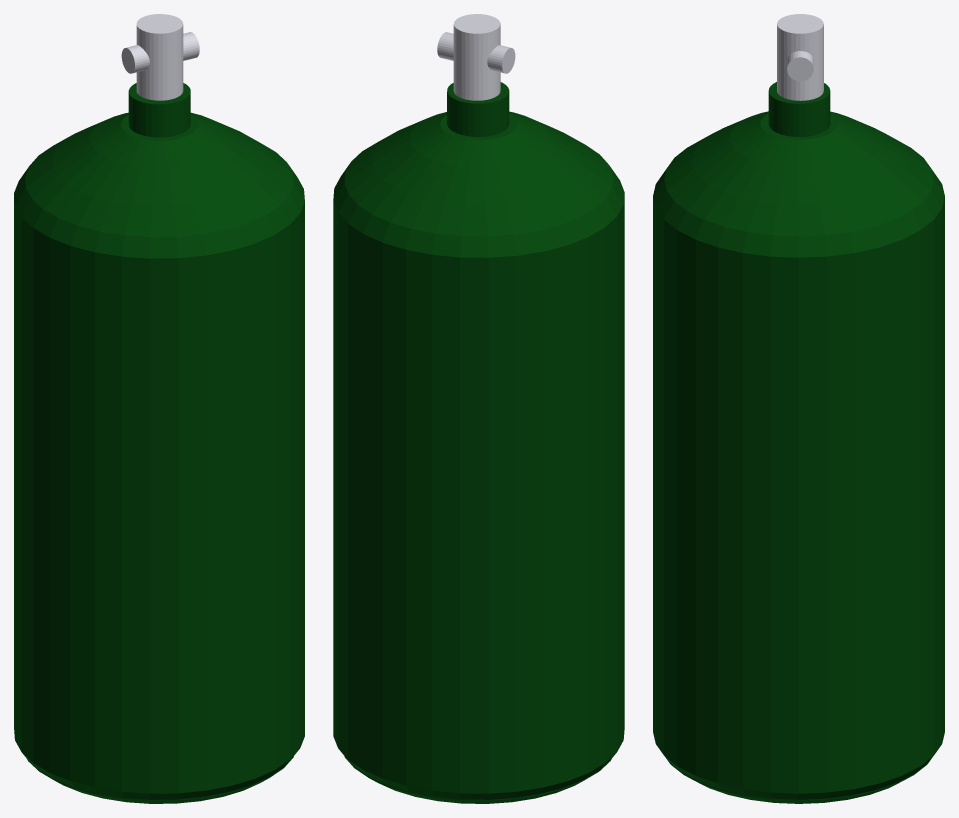
File: Oxygen_Tank1.fbx
3 views of the same model, side by side, from view 1: azimuth 30°, elevation 25°; view 2: azimuth 150°, elevation 25°; view 3: azimuth 270°, elevation 25° (orthographic).
Parts seen in each view (by area): view 1: Cylinder.007, Cylinder.006, Cylinder.001; view 2: Cylinder.007, Cylinder.006, Cylinder.001; view 3: Cylinder.007, Cylinder.006, Cylinder.005.
Part boxes in pixels (x1,y1,x2,y2): Cylinder.007: (14, 83, 304, 803); Cylinder.006: (136, 14, 183, 100); Cylinder.001: (121, 45, 149, 73); Cylinder.007: (333, 82, 624, 803); Cylinder.006: (453, 14, 500, 100); Cylinder.001: (487, 45, 515, 73); Cylinder.007: (653, 82, 944, 803); Cylinder.006: (777, 14, 823, 100); Cylinder.005: (787, 51, 813, 81).
Bounding box in the file's own units: 100 × 279 × 100.
